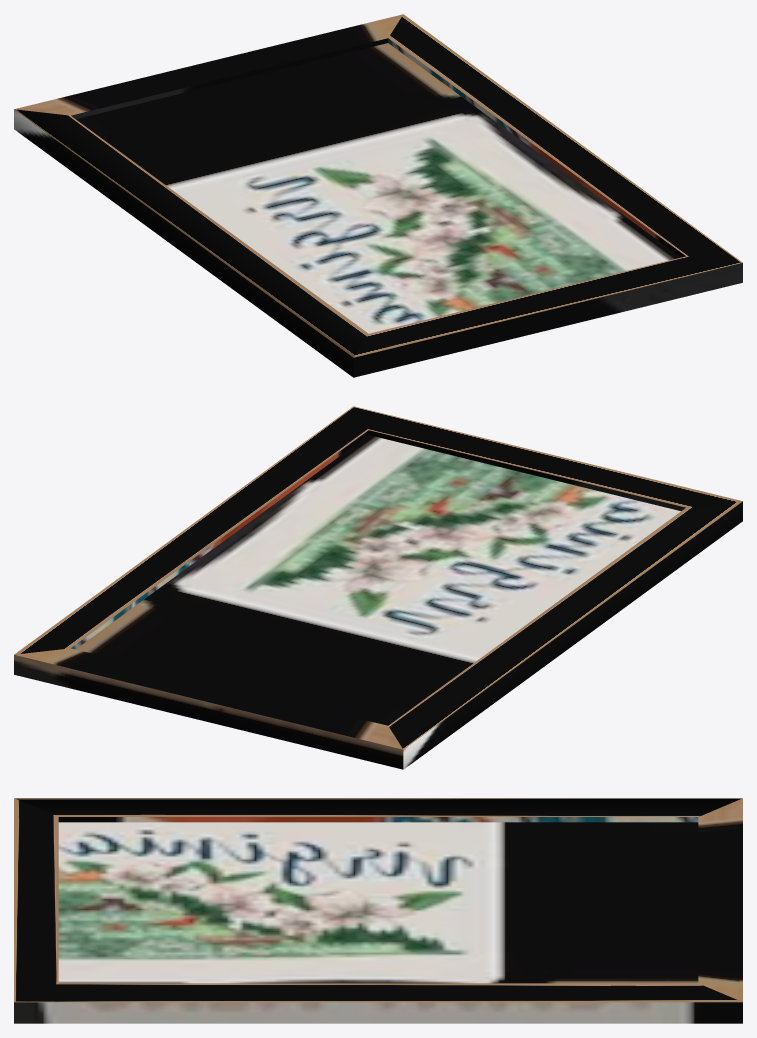
The model's file is menu-board.glb.
The picture shows the model from 3 angles, top to bottom: view 1: azimuth 30°, elevation 25°; view 2: azimuth 150°, elevation 25°; view 3: azimuth 270°, elevation 25°; orthographic projection. The views are drawn at different scales.
Parts seen in each view (by area): view 1: SM_Signs01_Signs_0; view 2: SM_Signs01_Signs_0; view 3: SM_Signs01_Signs_0.
Boxes of the visible parts, x1=… form: SM_Signs01_Signs_0: x1=14, y1=14, x2=742, y2=377; SM_Signs01_Signs_0: x1=14, y1=406, x2=742, y2=769; SM_Signs01_Signs_0: x1=14, y1=798, x2=742, y2=1023.
Size of the model in its own units: 0.5343 by 0.0262 by 0.8068.
1 material, 1 textured.
